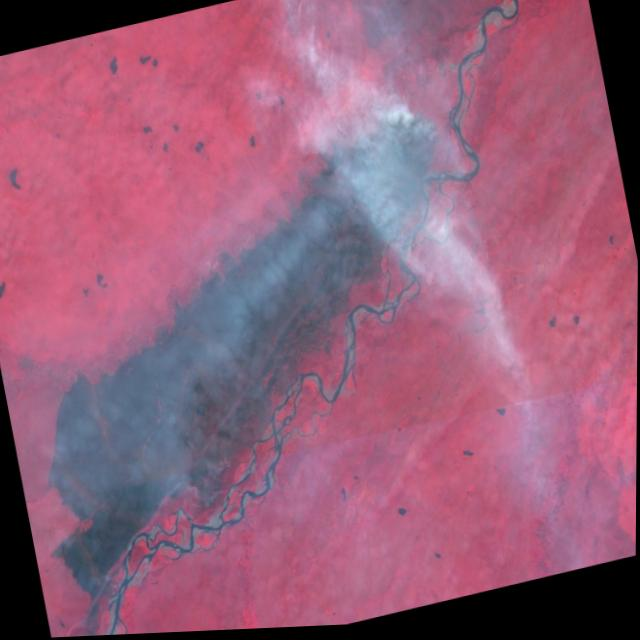fire: (369, 89, 449, 162)
